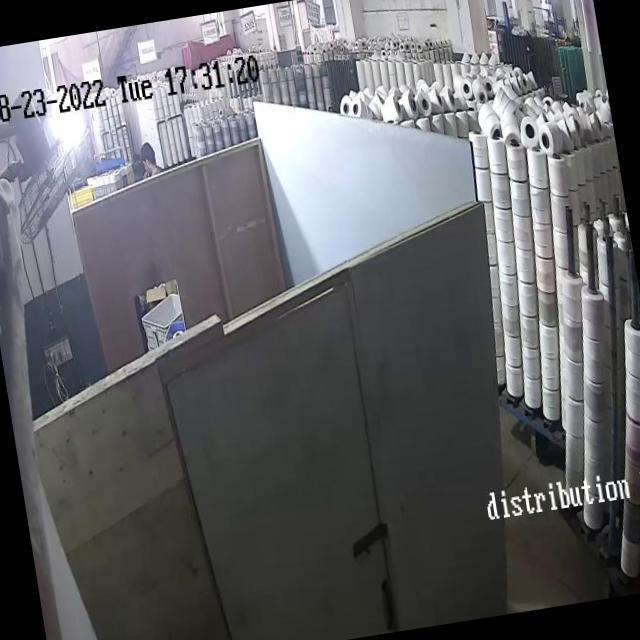person: (136, 144, 162, 180)
